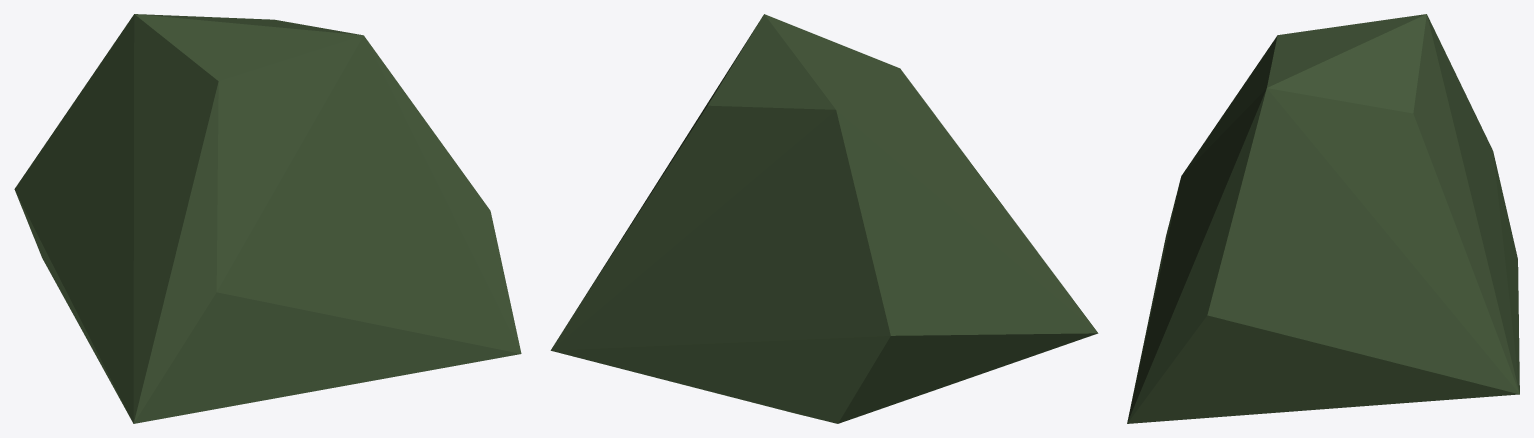
Rendered from Plant_3.lod4.glb.
3 views of the same model, side by side, from view 1: azimuth 30°, elevation 25°; view 2: azimuth 150°, elevation 25°; view 3: azimuth 270°, elevation 25° (orthographic).
Visible parts, largest first — view 1: Plant_3; view 2: Plant_3; view 3: Plant_3.
Boxes of the visible parts, x1=… form: Plant_3: x1=14, y1=14, x2=521, y2=423; Plant_3: x1=550, y1=14, x2=1098, y2=423; Plant_3: x1=1127, y1=14, x2=1519, y2=423.
Size of the model in its own units: 1.09 by 0.9506 by 0.9737.
